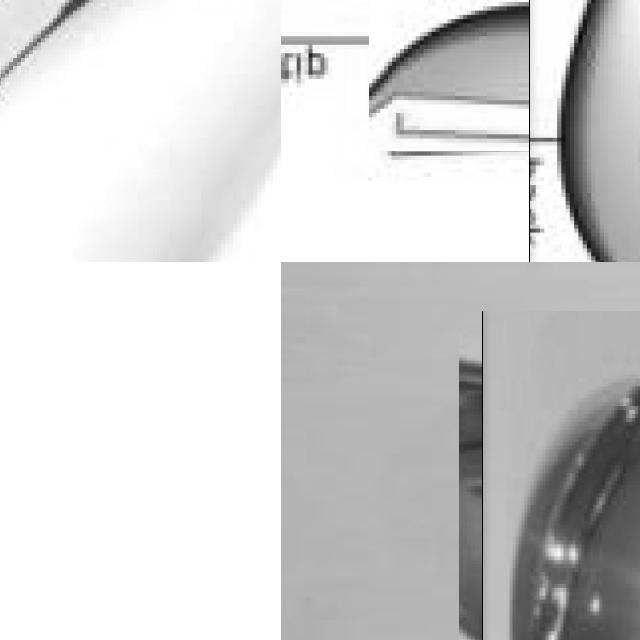spoons: (0, 0, 281, 262), (470, 322, 640, 640), (449, 0, 640, 232)
